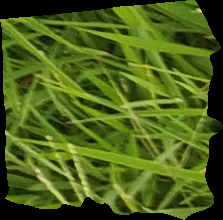grass: (1, 1, 222, 218)
